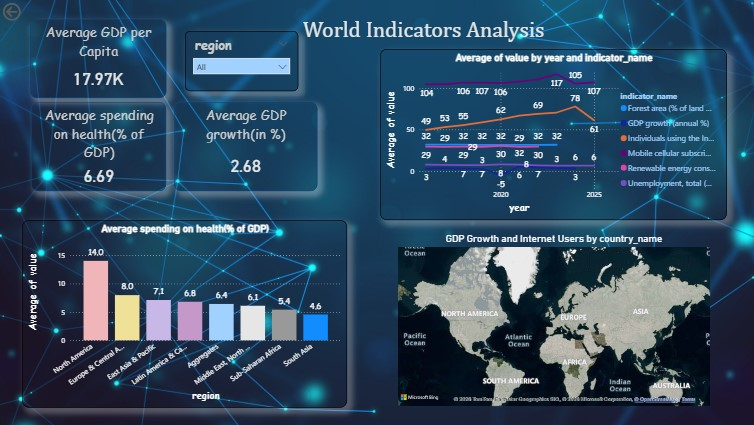

The dashboard page shown, as its layout file describes it:
{"tool":"powerbi","page":{"name":"Page 1","canvas":[1280,720],"ordinal":0},"visuals":[{"type":"textbox","box":[508.1,21.3,442.5,62.3],"z":0},{"type":"card","title":"Average GDP per Capita","fields":{"Values":["Avg(economic.value)"]},"box":[50.8,32.8,231.1,134.4],"z":1000},{"type":"card","title":"Average spending on health(% of GDP)","fields":{"Values":["Avg(health.value)"]},"box":[52.4,173.7,229.4,150.8],"z":2000},{"type":"card","title":"Average GDP growth(in %)","fields":{"Values":["Avg(economic.value)"]},"box":[295,173.7,242.6,150.8],"z":3000},{"type":"slicer","fields":{"Values":["economic.region"]},"box":[313,52.4,191.8,101.6],"z":4000},{"type":"clusteredColumnChart","title":"Average spending on health(% of GDP)","fields":{"Category":["health.region"],"Y":["Avg(health.value)"]},"box":[37.7,373.7,550.7,318],"z":5000},{"type":"lineChart","fields":{"Category":["line chart.year"],"Y":["Avg(line chart.value)"],"Series":["line chart.indicator_name"]},"box":[644.1,83.6,588.4,290.1],"z":6000},{"type":"actionButton","box":[0,0,100,40],"z":7000},{"type":"filledMap","fields":{"Category":["health.country_name"]},"box":[668.7,395,539.2,298.3],"z":8000}]}

Visuals, with their boxes in screenshot pixels (x1, y1, x2, y2), scaled from the page's 1280x720 canvas onto the 754x425 screenshot:
textbox: (299,13,560,49)
"Average GDP per Capita" card: (30,19,166,99)
"Average spending on health(% of GDP)" card: (31,103,166,192)
"Average GDP growth(in %)" card: (174,103,317,192)
slicer - economic.region: (184,31,297,91)
"Average spending on health(% of GDP)" clusteredColumnChart: (22,221,347,408)
lineChart - line chart.year x Avg(line chart.value): (379,49,726,221)
actionButton: (0,0,59,24)
filledMap - health.country_name: (394,233,712,409)
